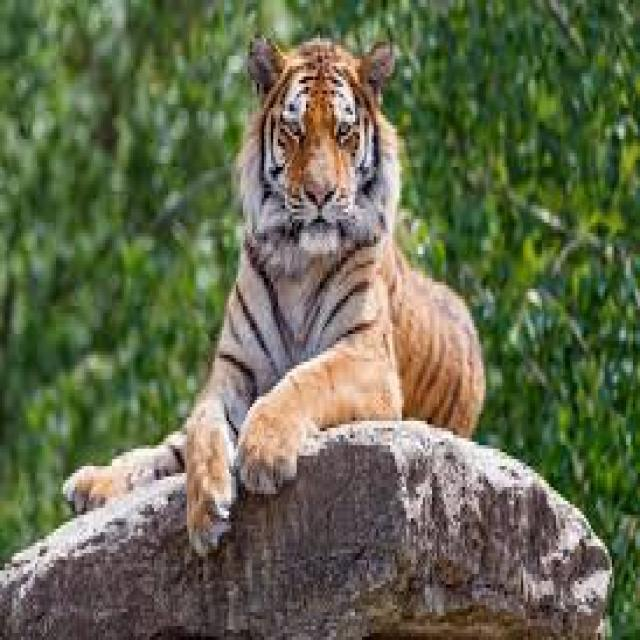Tiger: (61, 31, 486, 556)
